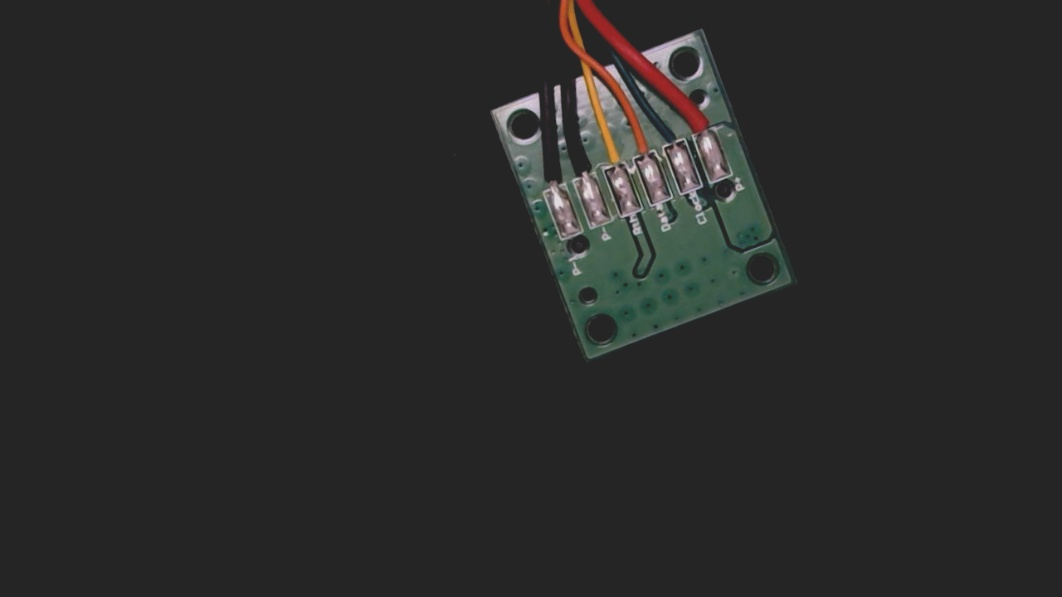Black: (559, 139, 601, 194)
Black1: (527, 146, 571, 208)
Green: (652, 106, 688, 159)
Orange: (620, 115, 661, 172)
Red: (675, 86, 721, 150)
Yellow: (585, 117, 632, 184)
